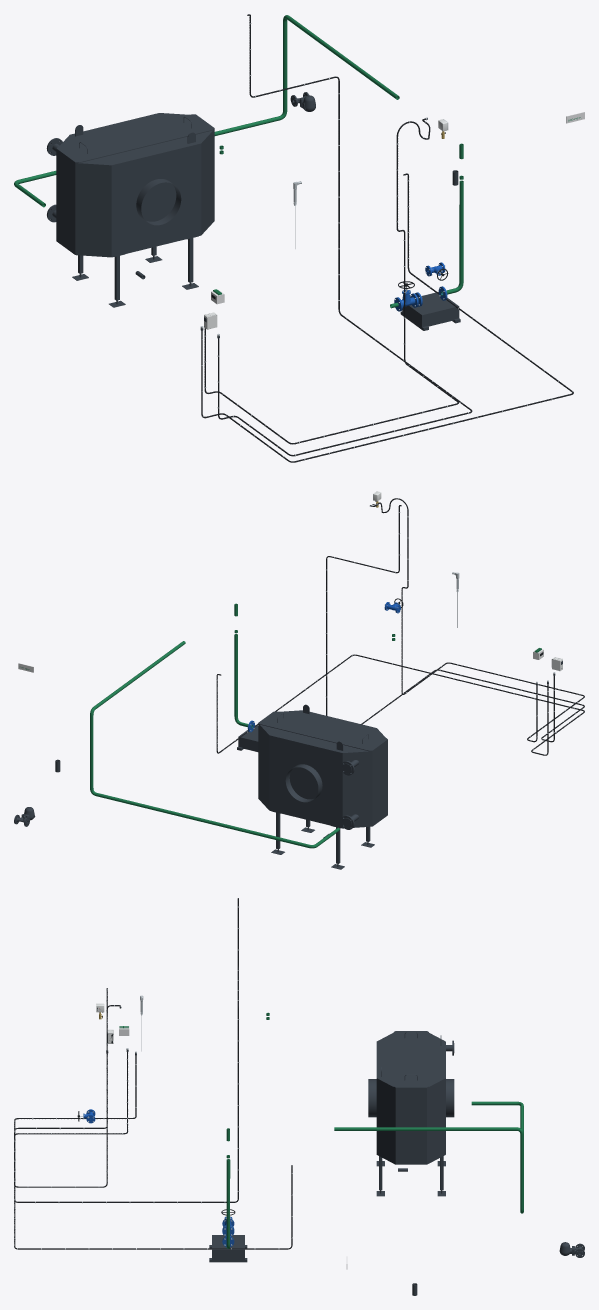
3 renders of one model, top to bottom at view 1: azimuth 30°, elevation 25°; view 2: azimuth 150°, elevation 25°; view 3: azimuth 270°, elevation 25°, orthographic. The views are drawn at different scales.
Visible parts, largest first — view 1: EQS2-3000 CAD 0, EQS2-3000 CAD 3, EQS2-3000 CAD 1, to_economizer / green, gpz_drive_cable / black, wiring_pump_2 / black, wiring_pressure_switch_3 / black, pump_branch_1 / dark, pump_branch_1 / green; view 2: EQS2-3000 CAD 0, EQS2-3000 CAD 3, EQS2-3000 CAD 2, to_economizer / green, gpz_drive_cable / black, wiring_pump_2 / black, wiring_pressure_switch_3 / black; view 3: EQS2-3000 CAD 3, to_economizer / green, gpz_drive_cable / black, EQS2-3000 CAD 0, wiring_pump_2 / black, wiring_pressure_switch_3 / black, pump_branch_1 / dark.
Boxes of the visible parts, x1,y1,x2,y2 form: EQS2-3000 CAD 0: (72,143,201,307); EQS2-3000 CAD 3: (56,113,214,254); EQS2-3000 CAD 1: (75,163,111,257); to_economizer / green: (14,15,399,207); gpz_drive_cable / black: (218,14,472,456); wiring_pump_2 / black: (201,173,573,462); wiring_pressure_switch_3 / black: (204,118,458,444); pump_branch_1 / dark: (400,292,460,330); pump_branch_1 / green: (390,143,463,308); EQS2-3000 CAD 0: (269,735,374,869); EQS2-3000 CAD 3: (258,704,387,825); EQS2-3000 CAD 2: (340,751,372,829); to_economizer / green: (90,641,339,848); gpz_drive_cable / black: (326,505,584,742); wiring_pump_2 / black: (216,654,584,755); wiring_pressure_switch_3 / black: (371,498,584,742); EQS2-3000 CAD 3: (376,1031,445,1164); to_economizer / green: (334,1101,523,1213); gpz_drive_cable / black: (14,898,238,1202); EQS2-3000 CAD 0: (368,1079,454,1196); wiring_pump_2 / black: (14,1052,292,1249); wiring_pressure_switch_3 / black: (14,988,136,1187); pump_branch_1 / dark: (209,1235,247,1262).
Size of the model in its own units: 5.92 by 3.71 by 6.74.
